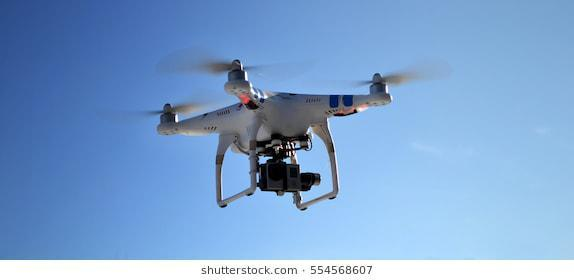drone: (155, 59, 394, 213)
